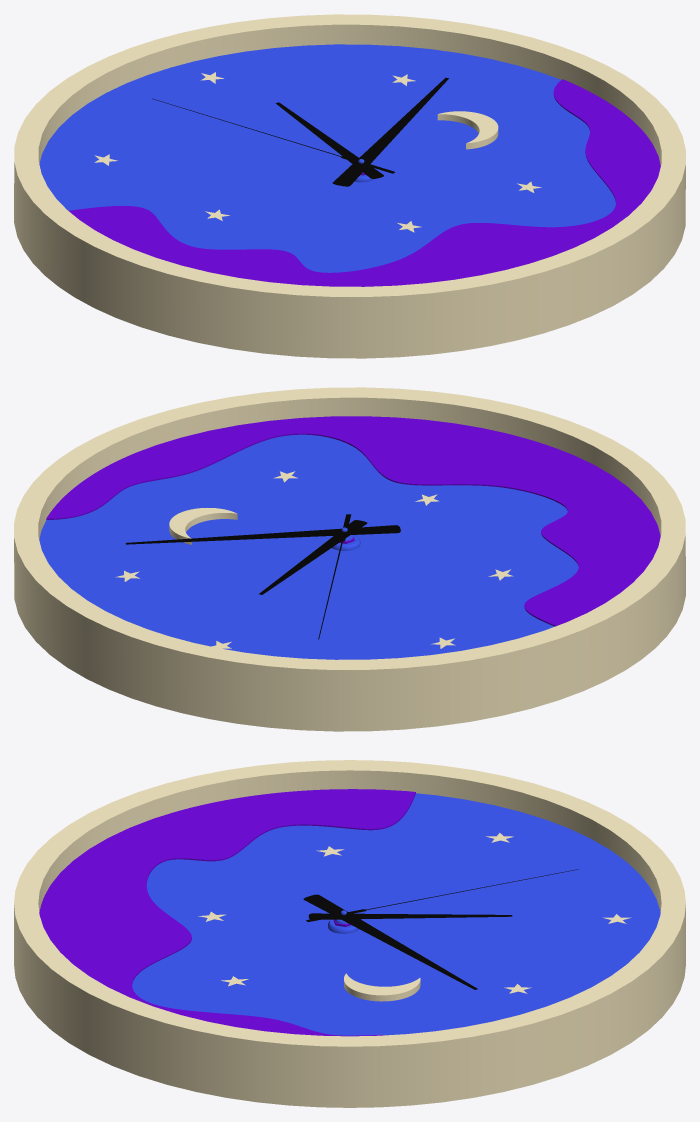
File: Clock.glb
3 renders of one model, top to bottom at view 1: azimuth 30°, elevation 25°; view 2: azimuth 150°, elevation 25°; view 3: azimuth 270°, elevation 25°, orthographic.
Visible parts, largest first — view 1: WallClock_3d_model, Minutes, Hours; view 2: WallClock_3d_model, Minutes, Hours; view 3: WallClock_3d_model, Minutes, Hours.
Part boxes in pixels (<box>): WallClock_3d_model: <box>14,14,685,358</box>; Minutes: <box>332,77,448,186</box>; Hours: <box>276,102,383,178</box>; WallClock_3d_model: <box>14,387,685,731</box>; Minutes: <box>125,525,400,544</box>; Hours: <box>259,520,367,594</box>; WallClock_3d_model: <box>14,760,685,1107</box>; Minutes: <box>303,894,477,989</box>; Hours: <box>308,913,512,919</box>.
Size of the model in its own units: 49.66 by 5.22 by 49.64.
